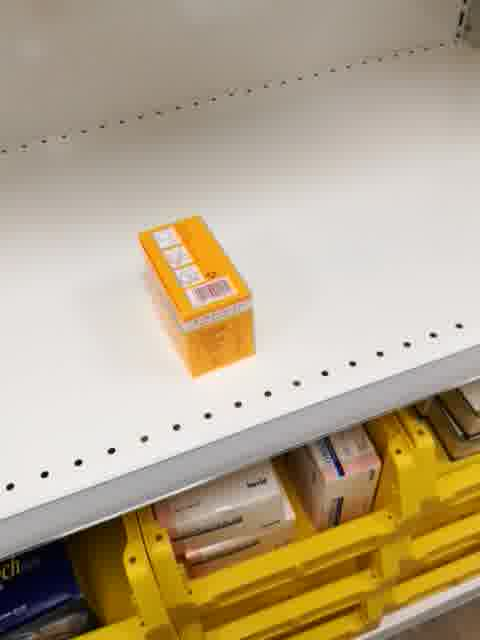jasminetea: (136, 214, 259, 379)
